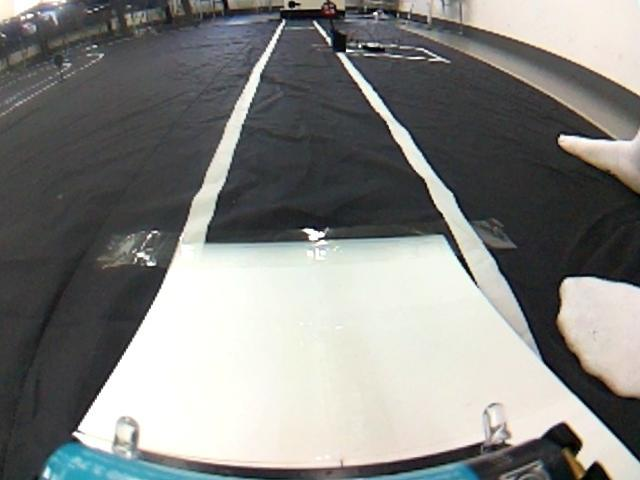hill_down: (3, 58, 640, 480)
sign_stop: (319, 0, 340, 23)
